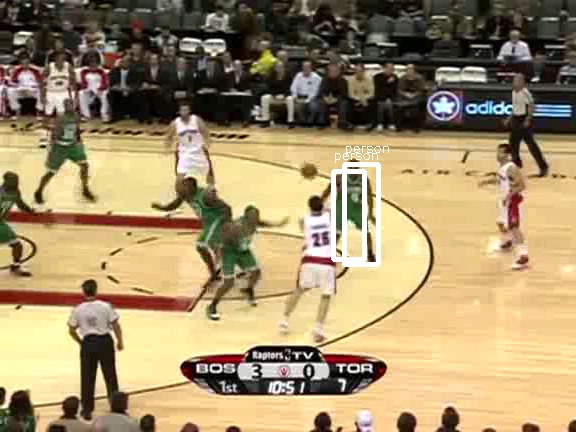person: (337, 162, 371, 243), (336, 162, 370, 243), (338, 162, 372, 243), (337, 161, 371, 242), (337, 163, 371, 244)
target_negative: (461, 57, 562, 429), (382, 18, 436, 359), (482, 174, 561, 310), (462, 136, 525, 260), (72, 317, 153, 392), (550, 286, 552, 390)
